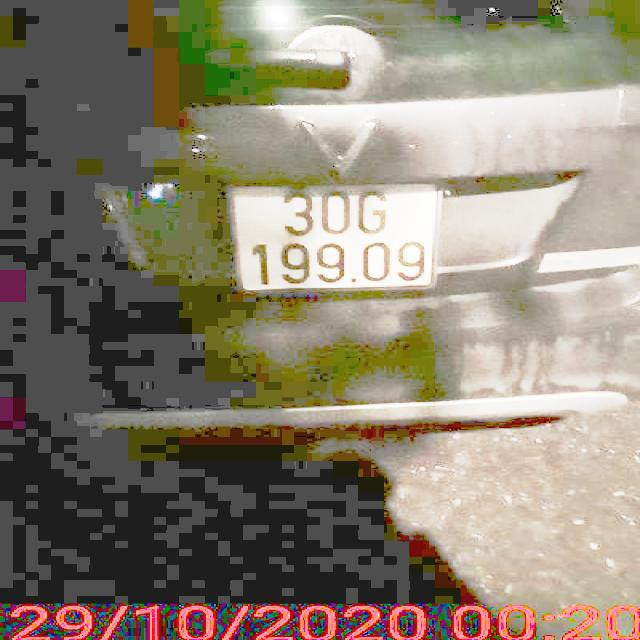license_plate: (230, 189, 443, 293)
